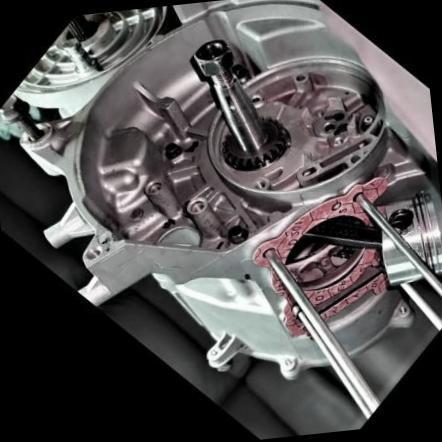hole: (181, 188, 214, 219), (138, 170, 168, 200), (80, 238, 108, 266), (247, 170, 272, 194)
